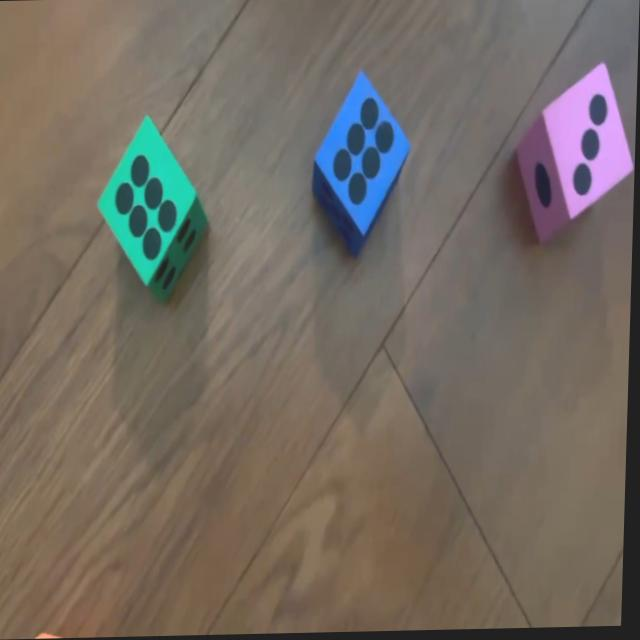blue_block: (307, 67, 413, 247)
